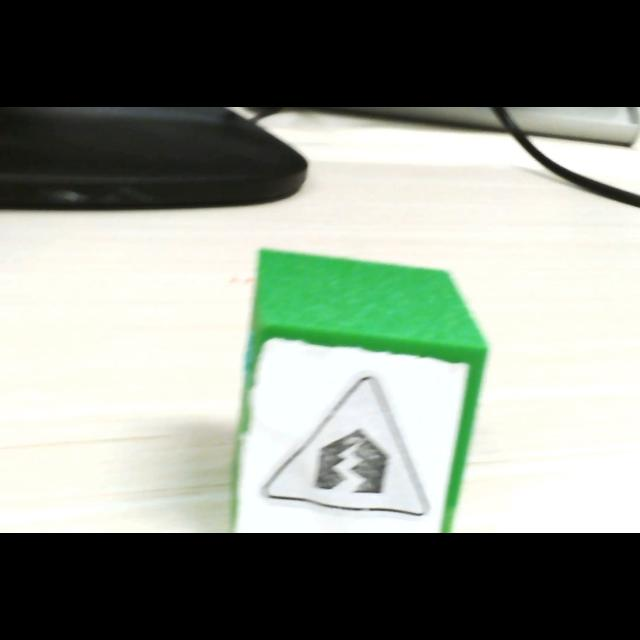Earthquake: (260, 374, 430, 516), (262, 376, 430, 518)
